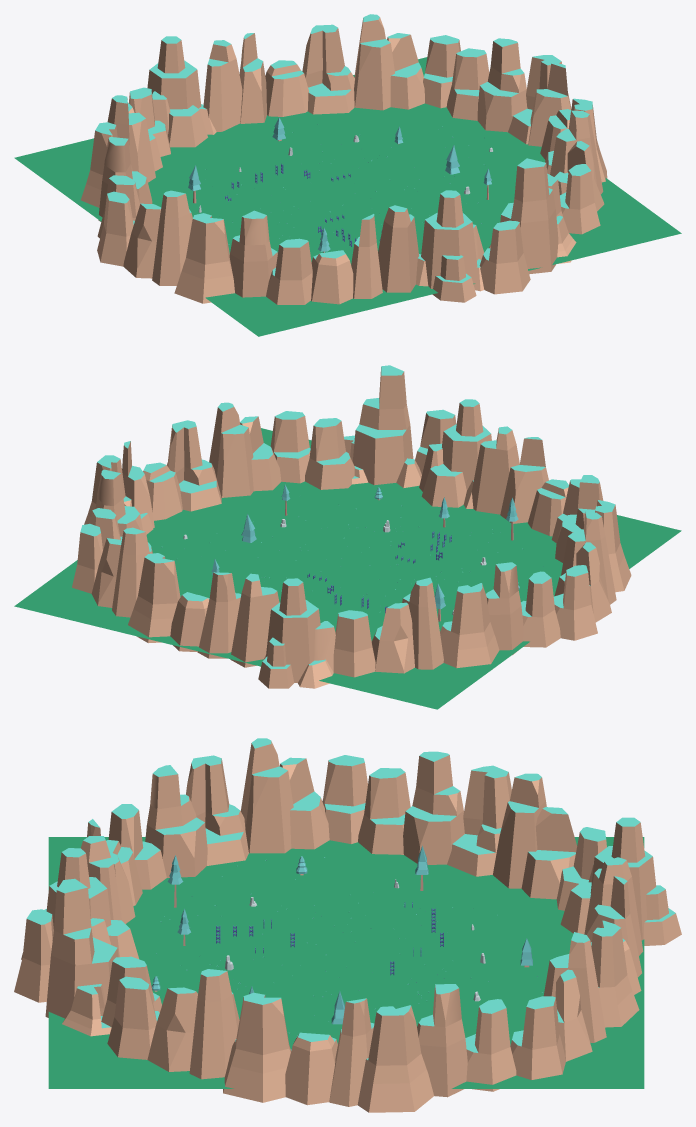
Rendered from decorations.glb.
3 views of the same model, one above another, from view 1: azimuth 30°, elevation 25°; view 2: azimuth 150°, elevation 25°; view 3: azimuth 270°, elevation 25° (orthographic). The views are drawn at different scales.
Visible parts, largest first — view 1: Plane, rock_tallB, rock_tallA, rock_tallB.001, rock_tallH, rock_tallH.002, rock_tallG.002, rock_tallI.002, rock_tallG, rock_tallC, rock_tallI, rock_tallC.001 (+23 smaller); view 2: Plane, rock_tallB.001, rock_tallA, rock_tallB, rock_tallH.001, rock_tallI.003, rock_tallH.002, rock_tallH.004, rock_tallC.001, rock_tallC, rock_tallF.009, rock_tallD.001 (+25 smaller); view 3: Plane, rock_tallA, rock_tallH.003, rock_tallH.004, rock_tallB.001, rock_tallG.001, rock_tallI, rock_tallG, rock_tallH.001, rock_tallH, rock_tallI.003, rock_tallG.002 (+24 smaller).
Boxes of the visible parts, x1,y1,x2,y2 form: Plane: (14, 57, 681, 336); rock_tallB: (416, 190, 484, 302); rock_tallA: (489, 158, 576, 274); rock_tallB.001: (147, 36, 216, 147); rock_tallH: (174, 213, 234, 303); rock_tallH.002: (302, 24, 354, 114); rock_tallG.002: (477, 38, 527, 132); rock_tallI.002: (354, 14, 394, 110); rock_tallG: (229, 210, 277, 297); rock_tallC: (378, 205, 418, 292); rock_tallI: (152, 190, 192, 285); rock_tallC.001: (203, 40, 242, 131); Plane: (14, 428, 681, 709); rock_tallB.001: (258, 578, 335, 688); rock_tallA: (344, 365, 421, 488); rock_tallB: (419, 399, 491, 508); rock_tallH.001: (440, 583, 499, 669); rock_tallI.003: (209, 402, 253, 497); rock_tallH.002: (128, 553, 180, 643); rock_tallH.004: (167, 420, 221, 511); rock_tallC.001: (230, 573, 279, 667); rock_tallC: (471, 426, 519, 514); rock_tallF.009: (305, 418, 354, 489); rock_tallD.001: (197, 572, 241, 658); Plane: (48, 837, 644, 1088); rock_tallA: (45, 878, 118, 1036); rock_tallH.003: (357, 1005, 433, 1112); rock_tallH.004: (223, 992, 291, 1102); rock_tallB.001: (560, 817, 681, 945); rock_tallG.001: (403, 751, 464, 864); rock_tallI: (241, 738, 293, 853); rock_tallG: (145, 765, 207, 877); rock_tallH.001: (447, 765, 511, 876); rock_tallH: (186, 755, 248, 865); rock_tallI.003: (189, 969, 239, 1079); rock_tallG.002: (417, 984, 467, 1097).
Size of the model in its own units: 166 by 33.79 by 161.
Materials: 71 (1 with a texture image).
